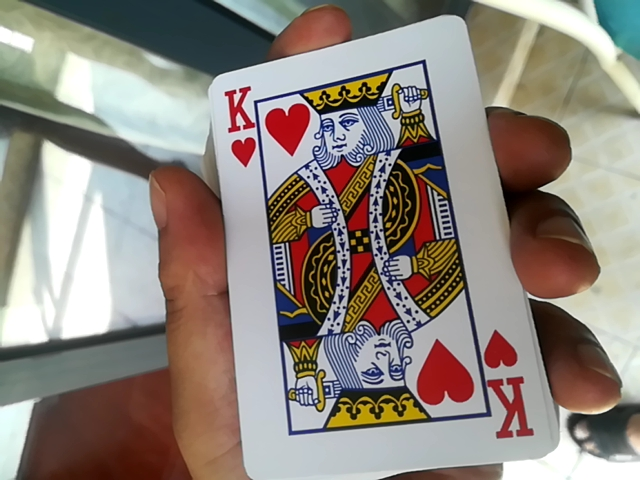hx k: (216, 11, 557, 474)
